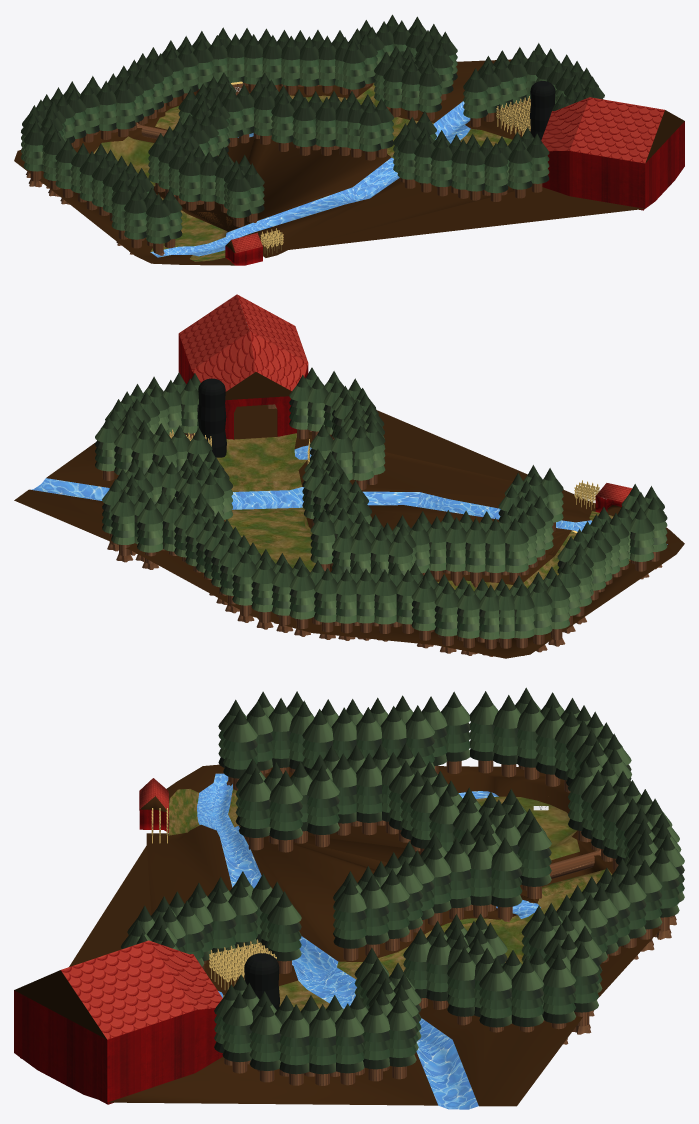
The model's file is proyectardolvl1parte8(completo).fbx.
3 renders of one model, top to bottom at view 1: azimuth 30°, elevation 25°; view 2: azimuth 150°, elevation 25°; view 3: azimuth 270°, elevation 25°, orthographic. The views are drawn at different scales.
Parts seen in each view (by area): view 1: Plane.001, Cylinder, pino.055, pino.144, pino.001, pino.180, pino.179, pino.046, pino.056, pino.045, pino.072, pino.005 (+61 smaller); view 2: Plane.001, Cylinder, pino.133, pino.121, pino.120, pino.139, pino.140, pino.134, pino.057, pino.141, pino.131, pino.130 (+49 smaller); view 3: Plane.001, pino.033, pino.030, pino.167, pino.034, pino.018, pino.022, pino.032, pino.119, pino.158, pino.159, pino.117 (+64 smaller).
Boxes of the visible parts, <box> form: Plane.001: <box>14,58,684,265</box>; Cylinder: <box>530,81,555,139</box>; pino.055: <box>146,193,170,255</box>; pino.144: <box>463,68,487,127</box>; pino.001: <box>226,167,251,226</box>; pino.180: <box>484,143,508,201</box>; pino.179: <box>508,139,532,198</box>; pino.046: <box>292,97,315,155</box>; pino.056: <box>124,189,146,254</box>; pino.045: <box>271,93,294,151</box>; pino.072: <box>23,121,44,187</box>; pino.005: <box>178,151,200,210</box>; Plane.001: <box>14,294,684,658</box>; Cylinder: <box>198,378,226,457</box>; pino.133: <box>289,564,315,636</box>; pino.121: <box>137,498,162,569</box>; pino.120: <box>111,490,134,562</box>; pino.139: <box>411,576,436,648</box>; pino.140: <box>434,581,458,653</box>; pino.134: <box>314,568,337,639</box>; pino.057: <box>629,507,654,579</box>; pino.141: <box>457,583,480,655</box>; pino.131: <box>251,557,275,629</box>; pino.130: <box>232,550,256,622</box>; Plane.001: <box>14,764,660,1109</box>; pino.033: <box>269,770,302,852</box>; pino.030: <box>333,878,366,960</box>; pino.167: <box>267,891,301,973</box>; pino.034: <box>307,765,339,847</box>; pino.018: <box>517,817,551,903</box>; pino.022: <box>491,837,522,922</box>; pino.032: <box>238,768,271,850</box>; pino.119: <box>542,953,575,1044</box>; pino.158: <box>249,1001,281,1082</box>; pino.159: <box>279,1004,309,1085</box>; pino.117: <box>479,957,511,1032</box>.
Size of the model in its own units: 10992 by 1929 by 8990.
